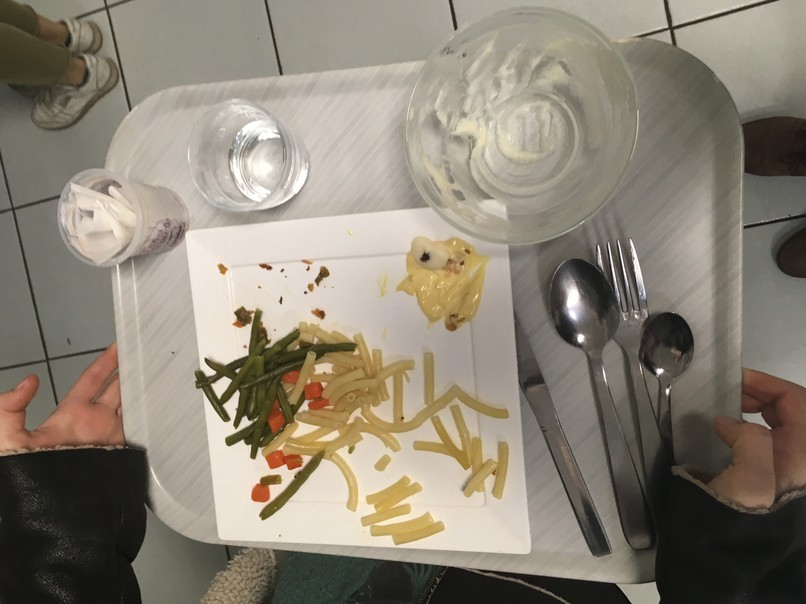cup: (161, 92, 324, 210)
cutlery: (518, 235, 713, 567)
orga: (308, 327, 509, 548), (190, 321, 296, 465), (402, 233, 496, 328)
trash: (43, 156, 196, 265)
